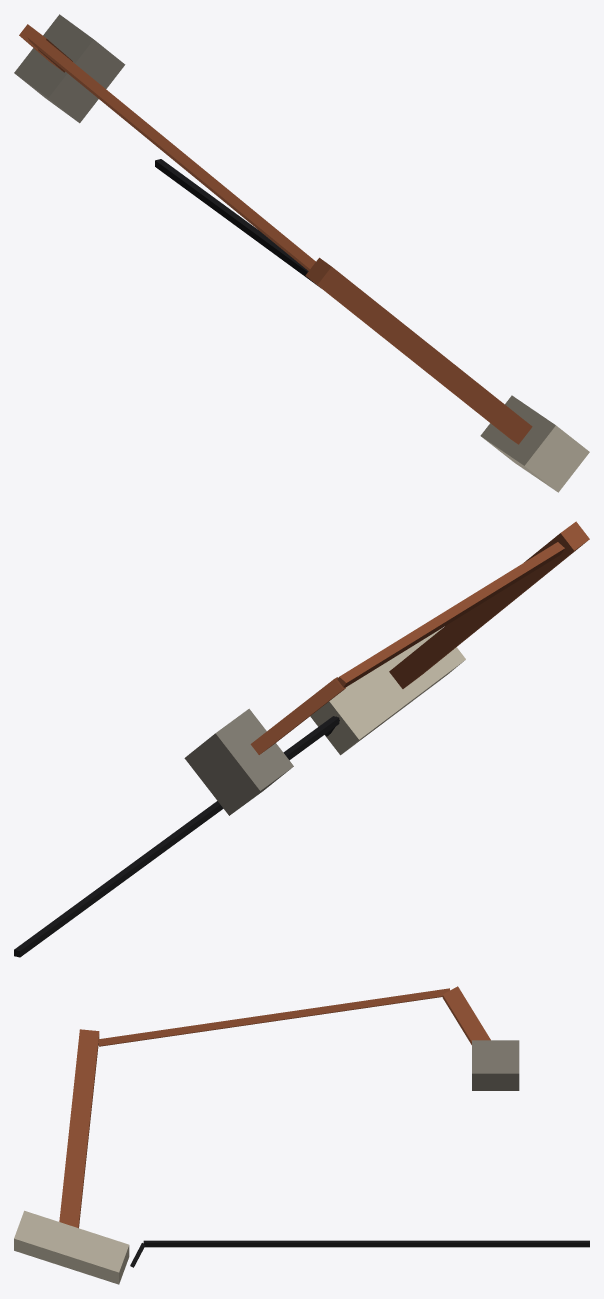
The picture shows the model from 3 angles, top to bottom: view 1: azimuth 30°, elevation 25°; view 2: azimuth 150°, elevation 25°; view 3: azimuth 270°, elevation 25°; orthographic projection. The views are drawn at different scales.
Parts seen in each view (by area): view 1: t00_g29_p5; view 2: t00_g29_p5; view 3: t00_g29_p5.
Boxes of the visible parts, <box> form: t00_g29_p5: <box>14,14,589,492</box>; t00_g29_p5: <box>14,521,589,957</box>; t00_g29_p5: <box>14,986,589,1284</box>.
Bounding box in the file's own units: 11.32 × 12.22 × 29.28.
